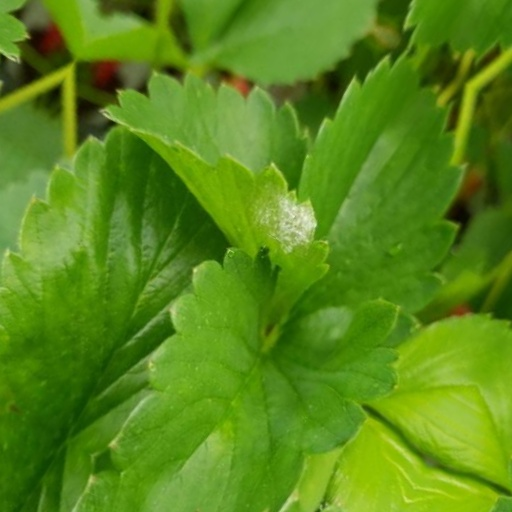Powdery Mildew Leaf: (45, 105, 326, 300)
